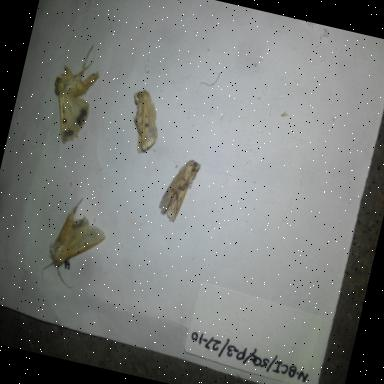abw: (37, 189, 116, 298), (39, 36, 109, 153), (118, 76, 172, 164), (152, 150, 205, 230)
